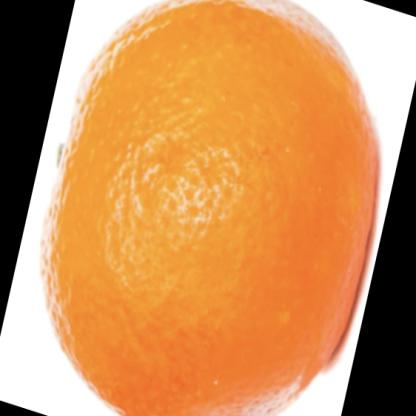fresh: (48, 1, 377, 416)
